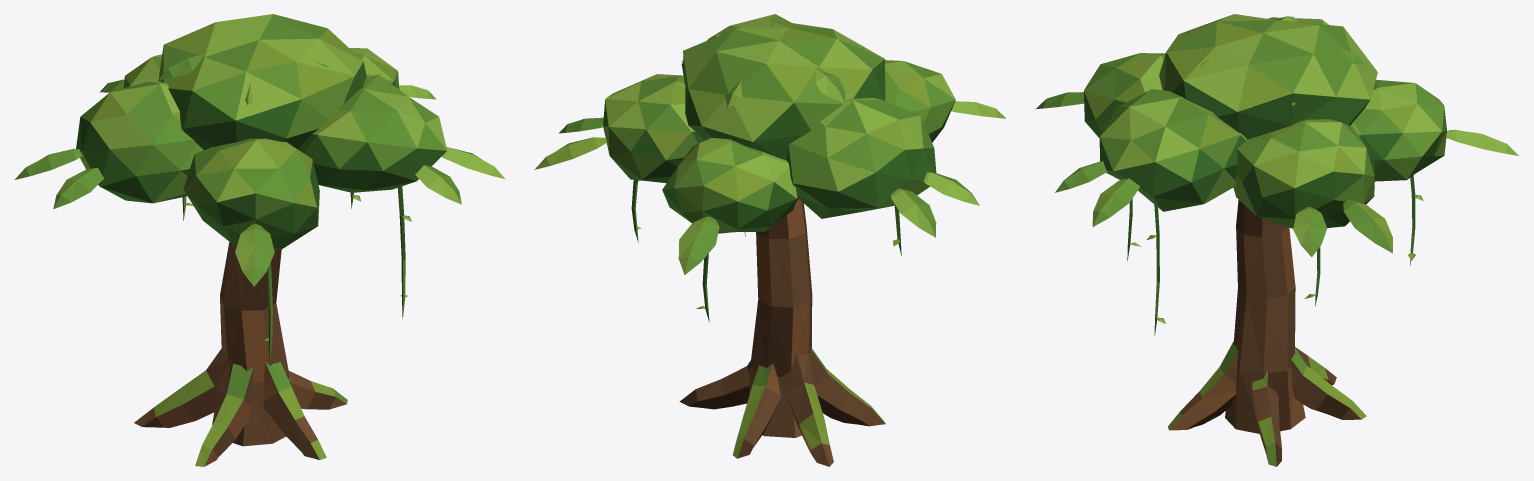
The model's file is tree_jungle_1.glb.
3 renders of one model, left to right at view 1: azimuth 30°, elevation 25°; view 2: azimuth 150°, elevation 25°; view 3: azimuth 270°, elevation 25°, orthographic. The views are drawn at different scales.
Visible parts, largest first — view 1: tree_jungle_1; view 2: tree_jungle_1; view 3: tree_jungle_1.
Boxes of the visible parts, left/top/right/bottom form: tree_jungle_1: left=15, top=14, right=505, bottom=466; tree_jungle_1: left=534, top=14, right=1006, bottom=466; tree_jungle_1: left=1036, top=14, right=1518, bottom=466.
Size of the model in its own units: 6.58 by 6 by 6.78.
